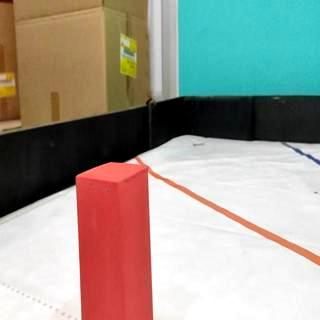redbox: (77, 160, 152, 320)
